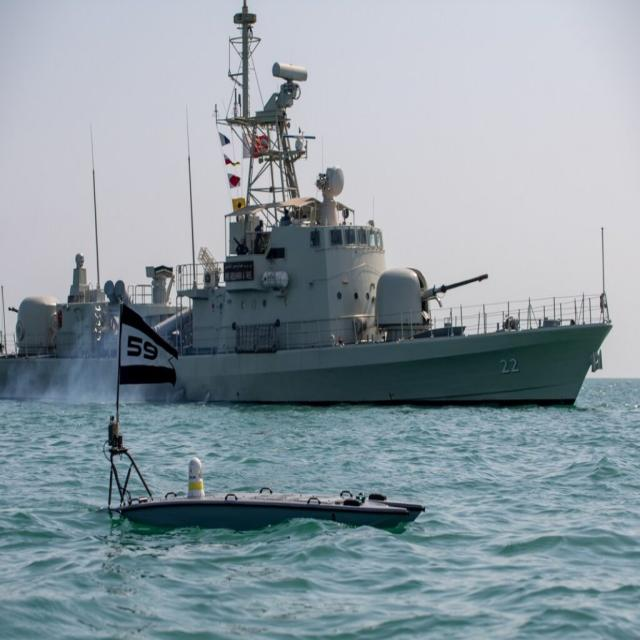navalvessels: (17, 17, 627, 424)
